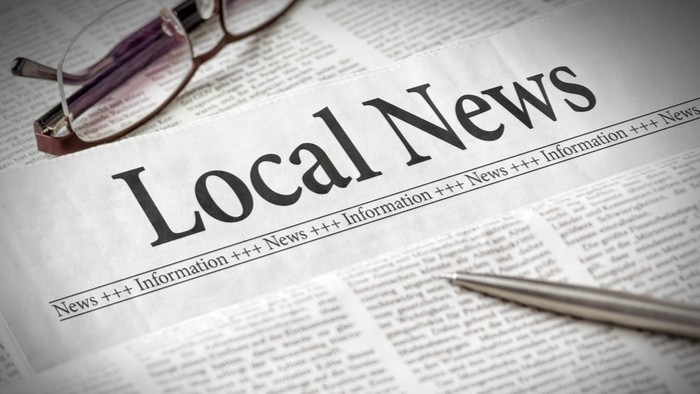news_paper: (1, 1, 698, 394)
